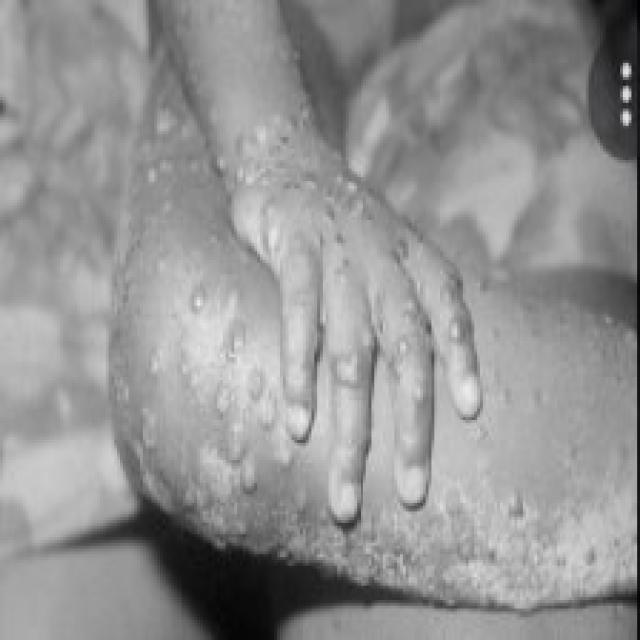Eczema: (127, 41, 554, 585)
